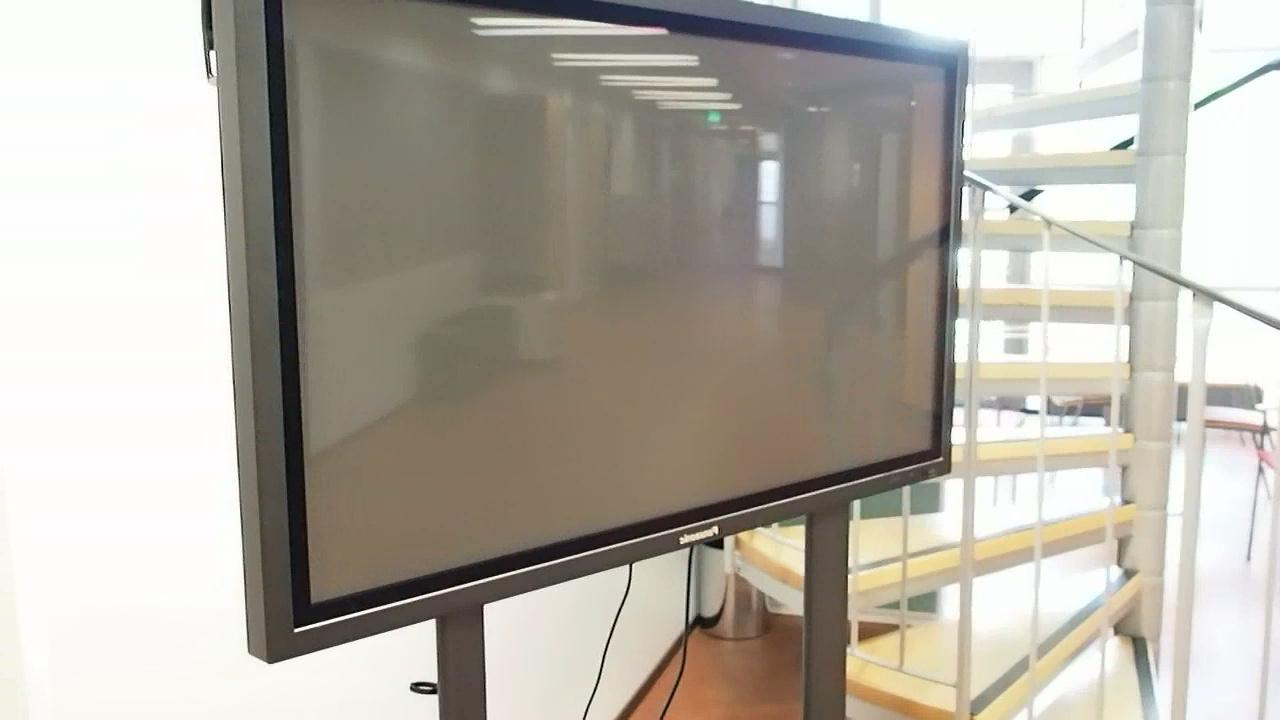screen: (266, 30, 967, 639)
